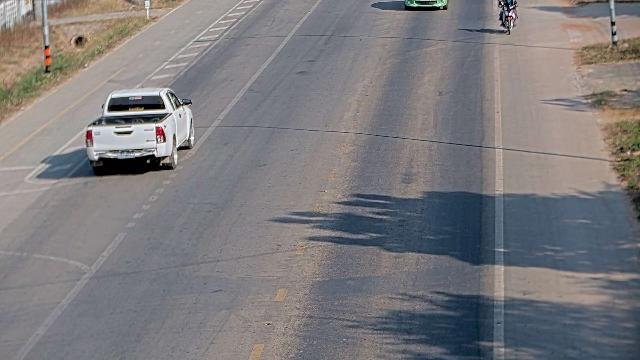pickup-truck: (84, 86, 195, 174), (404, 0, 448, 10)
